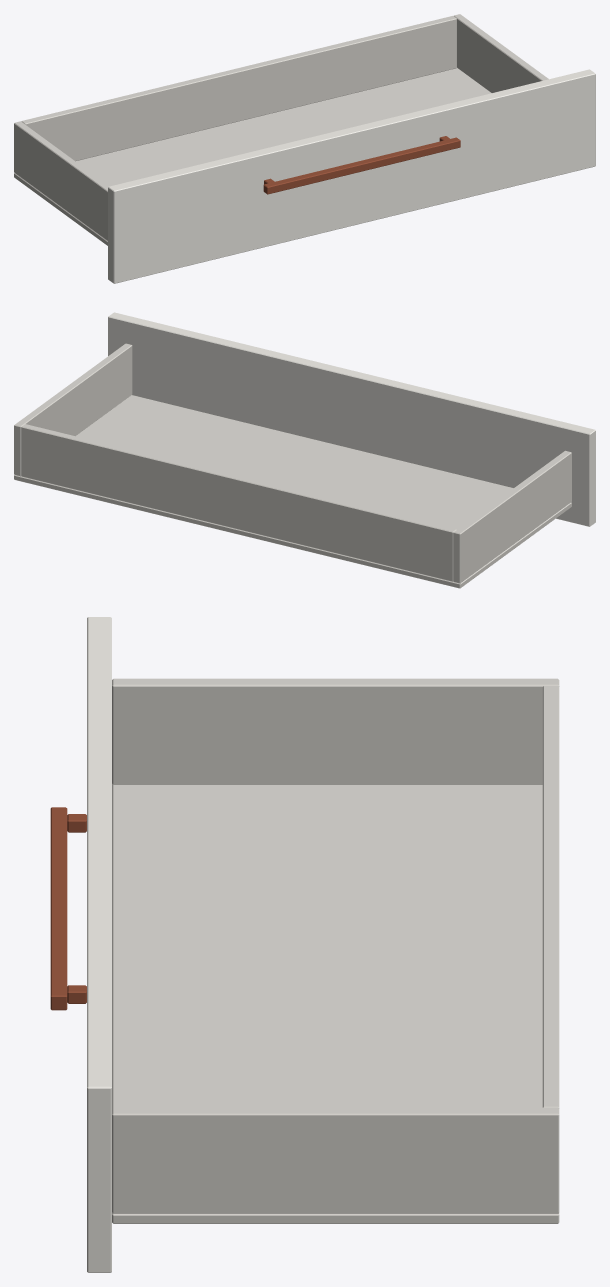
File: base_cabinet_door_drawer_drawer.glb
3 views of the same model, one above another, from view 1: azimuth 30°, elevation 25°; view 2: azimuth 150°, elevation 25°; view 3: azimuth 270°, elevation 25° (orthographic). The views are drawn at different scales.
Visible parts, largest first — view 1: base_cabinet_door_drawer_drawer; view 2: base_cabinet_door_drawer_drawer; view 3: base_cabinet_door_drawer_drawer.
Boxes of the visible parts, <box> form: base_cabinet_door_drawer_drawer: <box>14,14,595,283</box>; base_cabinet_door_drawer_drawer: <box>14,312,595,588</box>; base_cabinet_door_drawer_drawer: <box>50,617,559,1272</box>.
Bounding box in the file's own units: 0.797 × 0.147 × 0.364.
